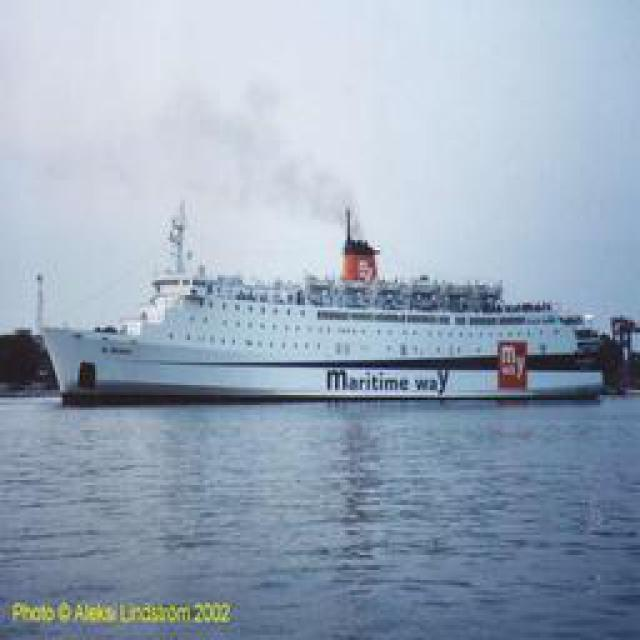Ship: (40, 202, 600, 410)
